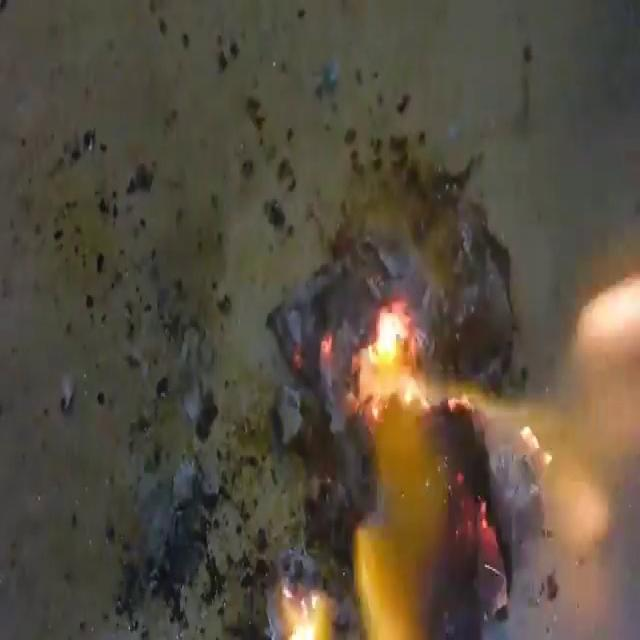Fire: (3, 4, 636, 636)
